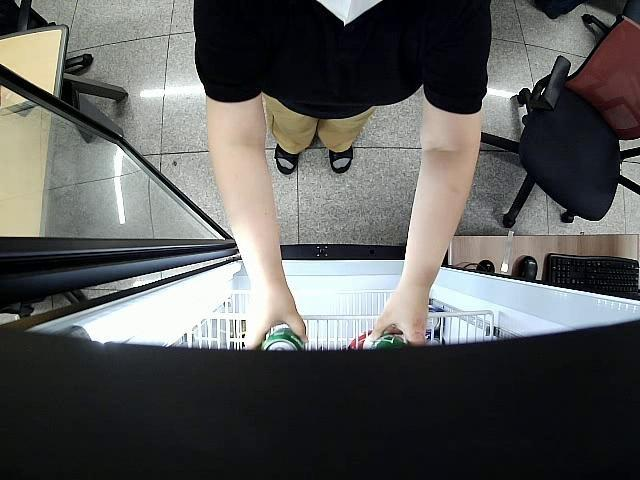12_chilsungCider: (262, 326, 305, 352), (364, 332, 409, 351)
